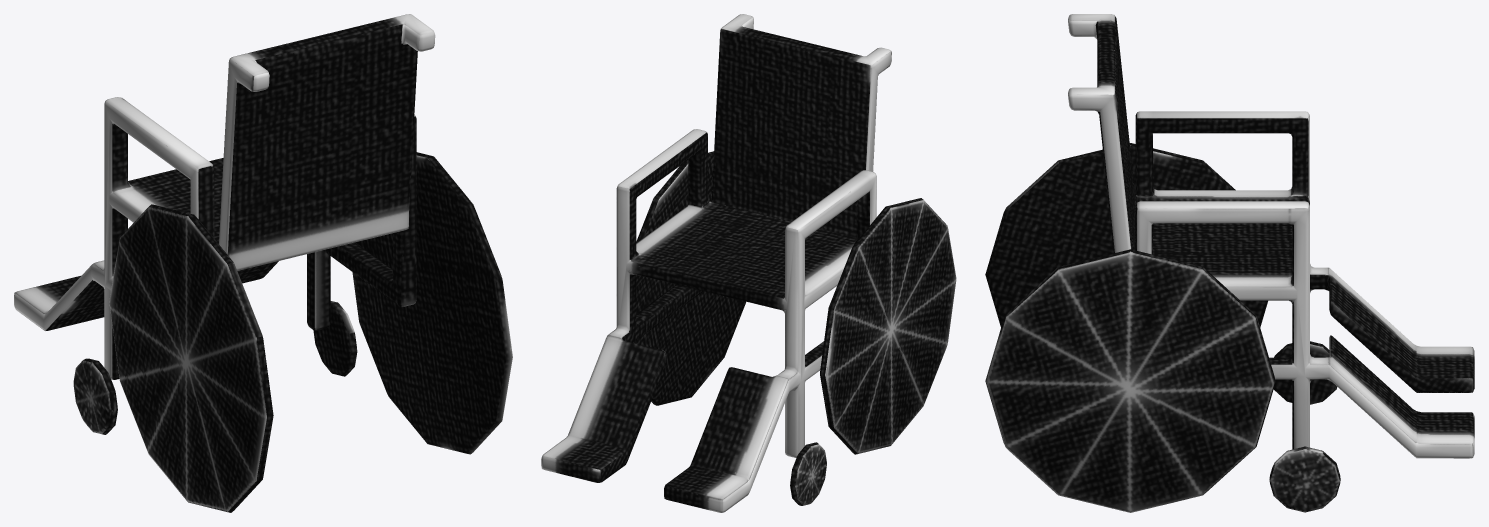
File: wheelchair.glb
The picture shows the model from 3 angles, left to right: view 1: azimuth 30°, elevation 25°; view 2: azimuth 150°, elevation 25°; view 3: azimuth 270°, elevation 25°; orthographic projection. The views are drawn at different scales.
Parts seen in each view (by area): view 1: wheelchair_Baked; view 2: wheelchair_Baked; view 3: wheelchair_Baked.
Boxes of the visible parts, <box> form: wheelchair_Baked: <box>14,14,512,512</box>; wheelchair_Baked: <box>541,14,956,512</box>; wheelchair_Baked: <box>985,14,1474,512</box>.
Bounding box in the file's own units: 0.5771 × 0.9896 × 1.08.
Materials: 1 (1 with a texture image).
